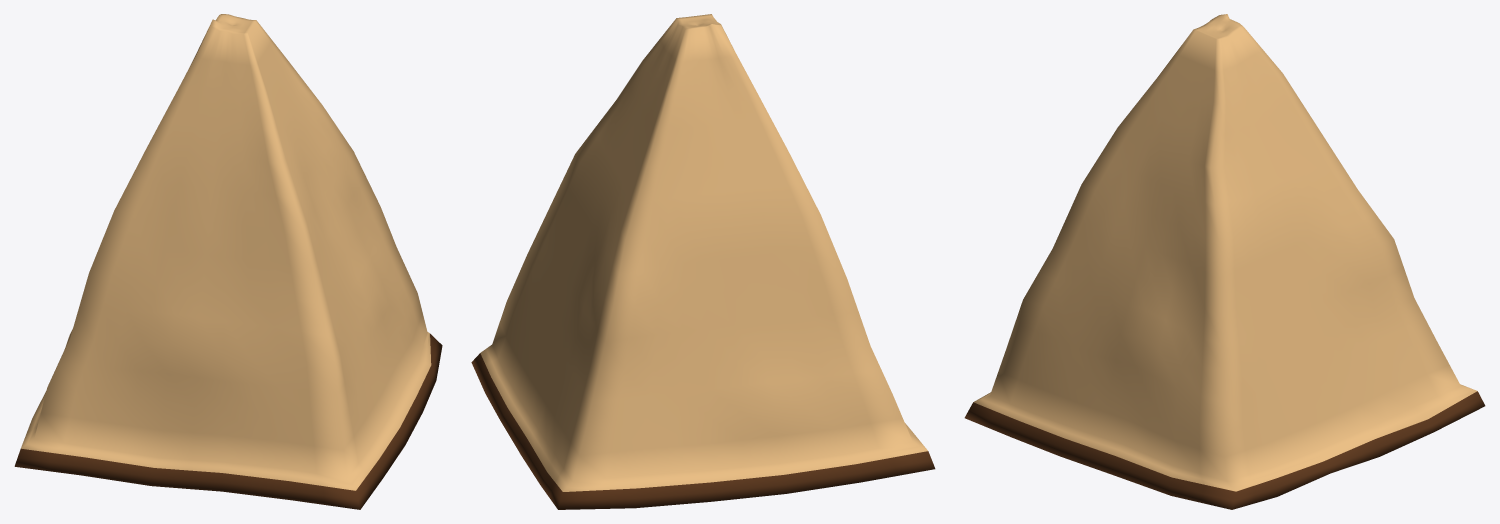
The model's file is BreadPyramid.fbx.
3 renders of one model, left to right at view 1: azimuth 30°, elevation 25°; view 2: azimuth 150°, elevation 25°; view 3: azimuth 270°, elevation 25°, orthographic. The views are drawn at different scales.
Parts seen in each view (by area): view 1: Cone; view 2: Cone; view 3: Cone.
Boxes of the visible parts, bbox=[...] form: Cone: bbox=[14, 14, 442, 509]; Cone: bbox=[471, 14, 935, 509]; Cone: bbox=[964, 14, 1485, 509].
Bounding box in the file's own units: 201 × 177 × 207.
